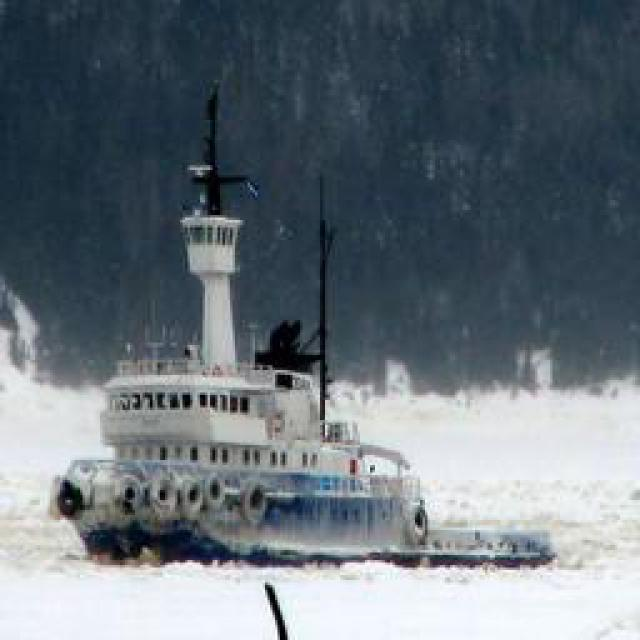Ship: (55, 262, 438, 560)
